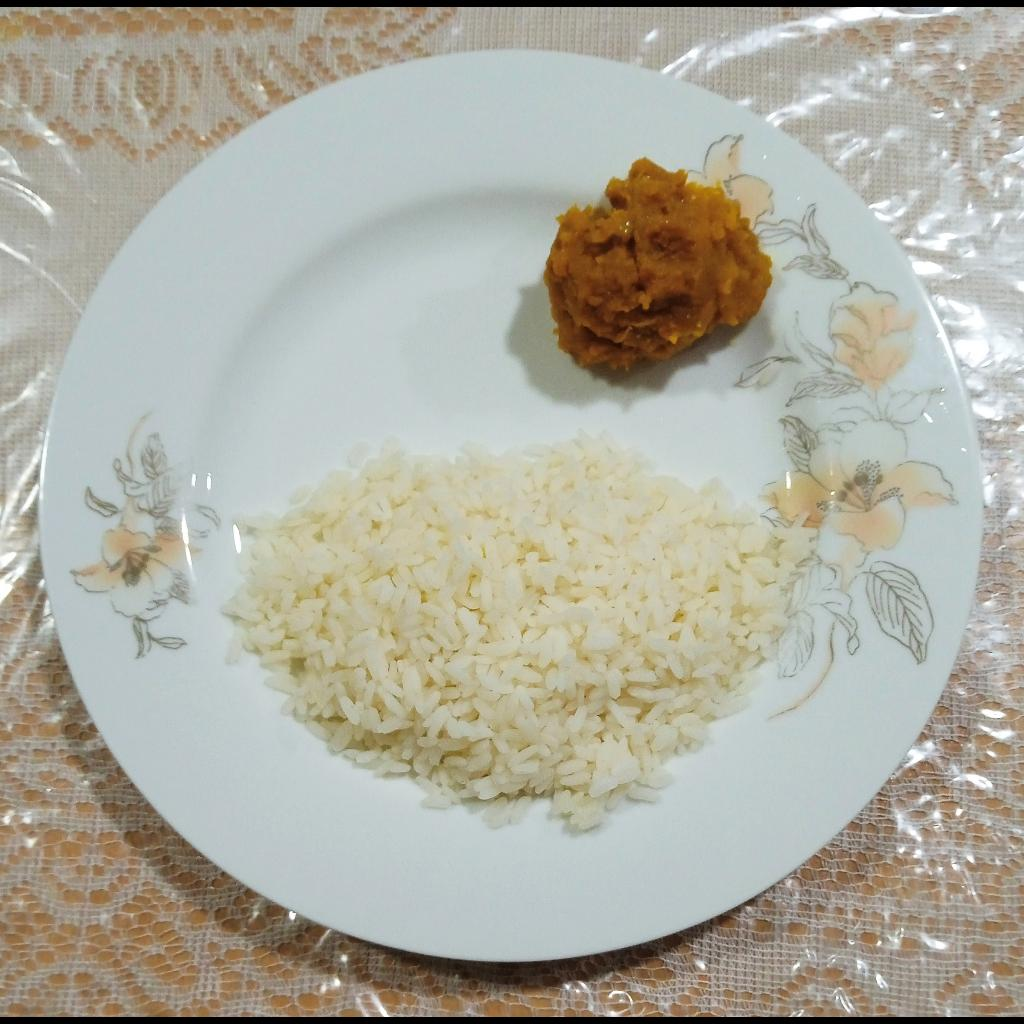kumra-vaji: (542, 156, 773, 373)
rice: (220, 429, 815, 826)
